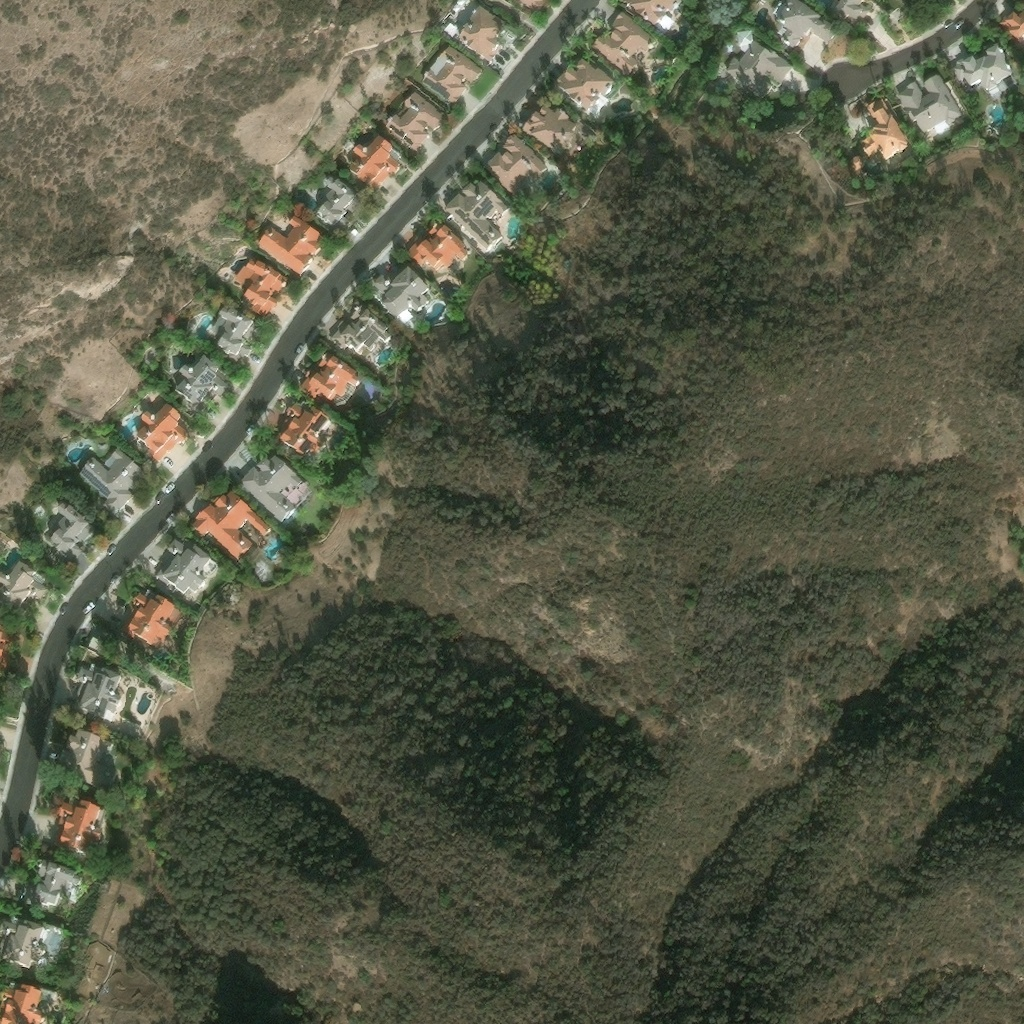0 no-damage: (189, 492, 273, 566), (237, 455, 313, 528), (443, 180, 510, 259), (589, 13, 661, 81), (77, 451, 148, 518), (254, 217, 326, 281), (480, 136, 549, 202), (380, 93, 448, 158), (150, 540, 219, 603), (724, 41, 794, 101), (518, 106, 588, 165), (327, 305, 393, 366), (896, 76, 962, 136), (367, 268, 430, 330), (550, 59, 616, 118), (0, 918, 69, 974), (274, 404, 336, 464), (422, 48, 484, 108), (405, 222, 472, 277), (171, 357, 233, 416), (128, 405, 188, 465), (952, 46, 1017, 101), (119, 593, 177, 653), (234, 262, 291, 323), (60, 731, 114, 795), (206, 307, 260, 371), (344, 138, 403, 196), (859, 97, 909, 165), (40, 504, 95, 564), (69, 665, 122, 726), (772, 0, 835, 48), (49, 801, 102, 857), (456, 7, 505, 67), (298, 358, 360, 404), (312, 177, 362, 234), (0, 561, 52, 612), (618, 0, 684, 39), (34, 861, 84, 912), (0, 983, 49, 1023), (829, 0, 870, 29), (998, 12, 1023, 46), (0, 626, 13, 676), (159, 315, 182, 336), (513, 0, 545, 13), (849, 157, 866, 174), (443, 24, 458, 40), (737, 32, 752, 47)
